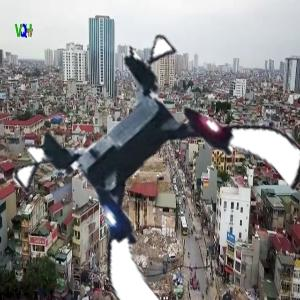drone: (40, 48, 288, 296)
